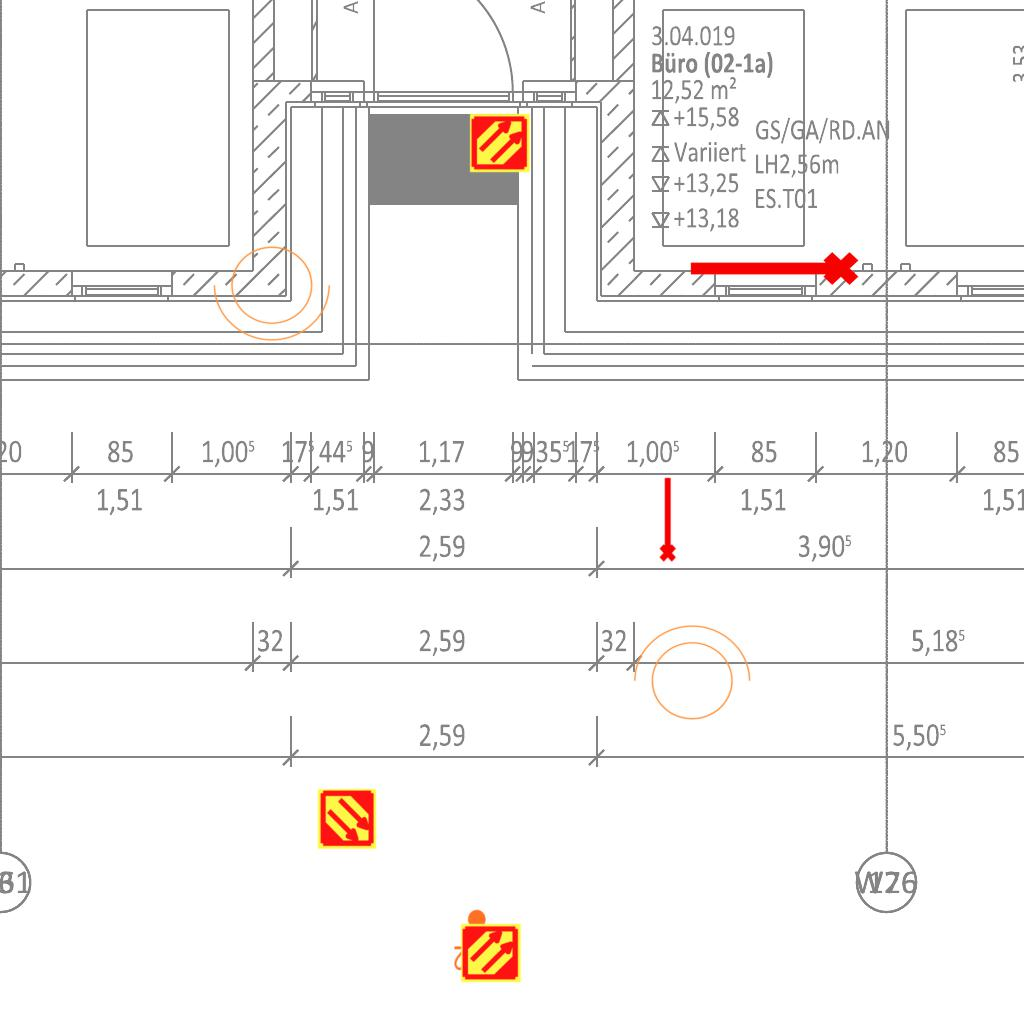ASR_Ansaugoeffnung: (685, 248, 861, 294), (655, 475, 678, 563)
ASR_Ansaugrauchmelder: (469, 112, 531, 174), (316, 788, 378, 850), (460, 922, 522, 984)
Downlight_LED_Einbauleuchten_Flur: (453, 908, 499, 972)
Scheinwerfer_fuer_Alarmbeleuchtung: (209, 234, 341, 346), (623, 620, 755, 732)
